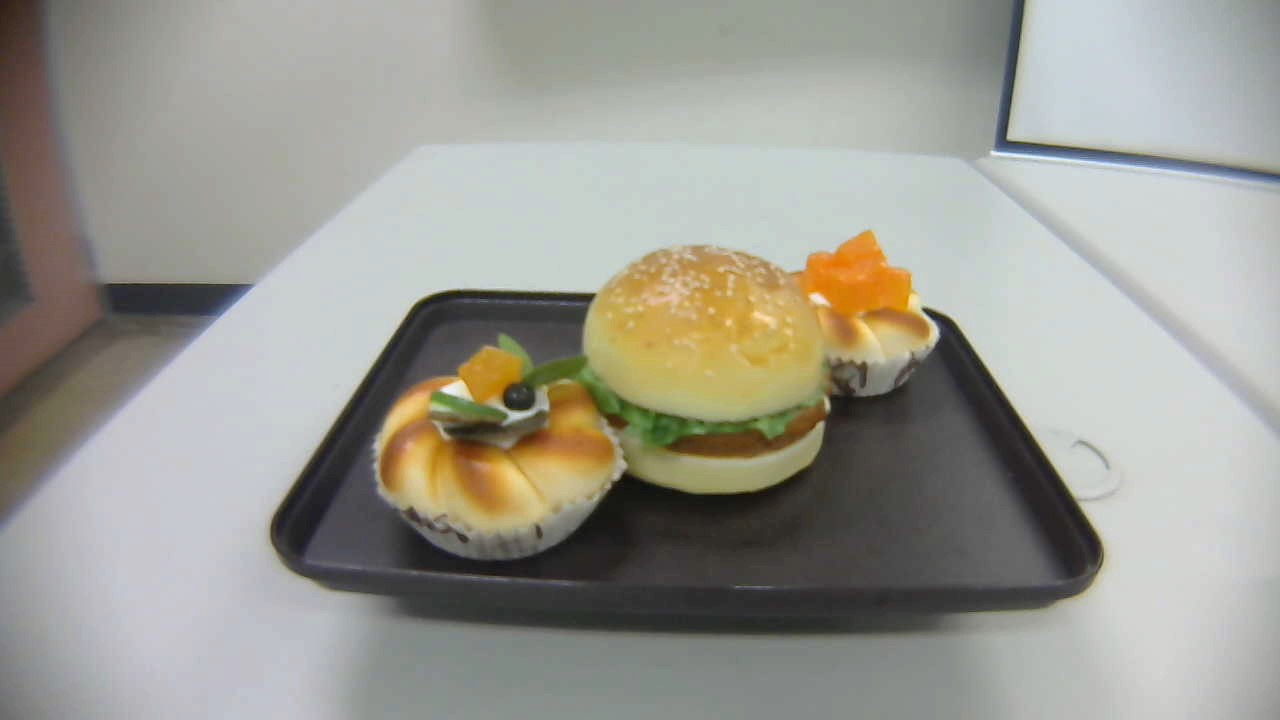fruit tart: (370, 332, 624, 564)
hamburger: (581, 242, 830, 495)
mango tart: (783, 227, 940, 400)
